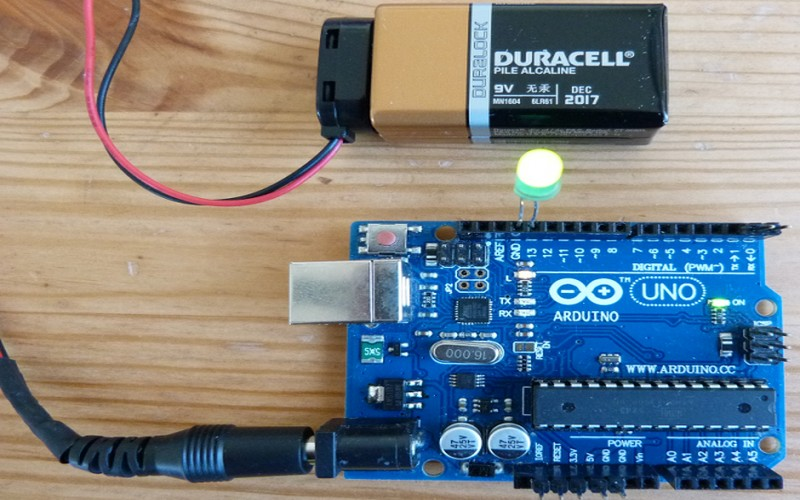Regulator: (265, 206, 799, 499)
